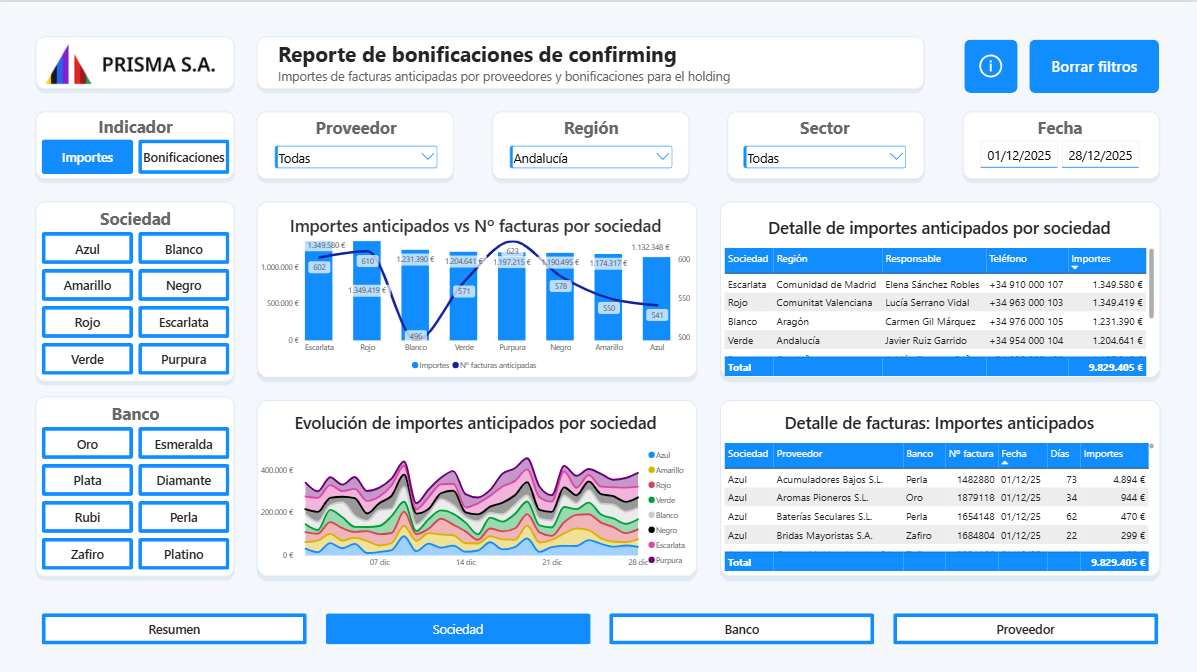

What the dashboard file says about the page in this screenshot:
{"tool":"powerbi","page":{"name":"Sociedad","canvas":[1920,1080],"ordinal":1},"visuals":[{"type":"tableEx","fields":{"Values":["Sociedad.Nombre_Corto_Sociedad","CCAA_Sociedad.Comunidad Autónoma","Sociedad.Nombre_Contacto_Sociedad","Sociedad.Telefono_Contacto","Registro_Bonificaciones.Sel_Importes"]},"box":[1154,327,704,270],"z":0},{"type":"stackedAreaChart","fields":{"Category":["registro_bonificaciones.F. Anticipo"],"Series":["Sociedad.Nombre_Corto_Sociedad"],"Y":["Registro_Bonificaciones.Sel_Importes"]},"box":[412,640,704,270],"z":1000},{"type":"tableEx","fields":{"Values":["Sociedad.Nombre_Corto_Sociedad","proveedores.Nombre_Proveedor","Banco.Nombre_Corto_Banco","Count(registro_bonificaciones.Nº Factura)","registro_bonificaciones.F. Anticipo","Sum(registro_bonificaciones.Días)","Registro_Bonificaciones.Sel_Importes"]},"box":[1154,640,704,270],"z":2000},{"type":"lineStackedColumnComboChart","fields":{"Category":["Sociedad.Nombre_Corto_Sociedad"],"Y":["Registro_Bonificaciones.Sel_Importes"],"Y2":["CountNonNull(registro_bonificaciones.Nº Factura)"]},"box":[412,324,704,270],"z":3000},{"type":"image","box":[60.5,60,320,80],"z":4000},{"type":"advancedSlicerVisual","title":"Sociedad","fields":{"Values":["Sociedad.Nombre_Corto_Sociedad"]},"box":[70.5,328,300,270],"z":5000},{"type":"pageNavigator","box":[70,978,1786,50],"z":6000},{"type":"advancedSlicerVisual","title":"Banco","fields":{"Values":["Banco.Nombre_Corto_Banco"]},"box":[70.5,640,300,270],"z":7000},{"type":"shape","title":"Reporte de bonificaciones de confirming","box":[448,60,1030,80],"z":8000},{"type":"advancedSlicerVisual","title":"Indicador","fields":{"Values":["Selector.Selector"]},"box":[70.5,180,300,96],"z":9000},{"type":"slicer","title":"Proveedor","fields":{"Values":["proveedores.Nombre_Proveedor"]},"box":[438,182,270,100],"z":10000},{"type":"slicer","title":"Región","fields":{"Values":["CCAA_Proveedor.Comunidad Autónoma"]},"box":[814,182,270,100],"z":11000},{"type":"slicer","title":"Fecha","fields":{"Values":["registro_bonificaciones.F. Anticipo"]},"box":[1564,182,270,100],"z":12000},{"type":"slicer","title":"Sector","fields":{"Values":["Proveedor.Sector"]},"box":[1188,182,270,100],"z":13000},{"type":"shape","box":[1572.1,250.7,123.6,29.3],"z":14000},{"type":"shape","box":[1702.1,250.7,123.6,29.3],"z":15000},{"type":"actionButton","box":[1650,60,208,86],"z":15500},{"type":"actionButton","box":[1545.6,60,85.6,85.6],"z":15750}]}

Visuals, with their boxes in screenshot pixels (x1, y1, x2, y2), scaled from the page's 1920x1080 canvas onto the 1197x672 screenshot:
tableEx - Sociedad.Nombre_Corto_Sociedad x CCAA_Sociedad.Comunidad Autónoma: {"x1": 719, "y1": 203, "x2": 1158, "y2": 371}
stackedAreaChart - registro_bonificaciones.F. Anticipo x Sociedad.Nombre_Corto_Sociedad: {"x1": 257, "y1": 398, "x2": 696, "y2": 566}
tableEx - Sociedad.Nombre_Corto_Sociedad x proveedores.Nombre_Proveedor: {"x1": 719, "y1": 398, "x2": 1158, "y2": 566}
lineStackedColumnComboChart - Sociedad.Nombre_Corto_Sociedad x Registro_Bonificaciones.Sel_Importes: {"x1": 257, "y1": 202, "x2": 696, "y2": 370}
image: {"x1": 38, "y1": 37, "x2": 237, "y2": 87}
"Sociedad" advancedSlicerVisual: {"x1": 44, "y1": 204, "x2": 231, "y2": 372}
pageNavigator: {"x1": 44, "y1": 609, "x2": 1157, "y2": 640}
"Banco" advancedSlicerVisual: {"x1": 44, "y1": 398, "x2": 231, "y2": 566}
"Reporte de bonificaciones de confirming" shape: {"x1": 279, "y1": 37, "x2": 921, "y2": 87}
"Indicador" advancedSlicerVisual: {"x1": 44, "y1": 112, "x2": 231, "y2": 172}
"Proveedor" slicer: {"x1": 273, "y1": 113, "x2": 441, "y2": 175}
"Región" slicer: {"x1": 507, "y1": 113, "x2": 676, "y2": 175}
"Fecha" slicer: {"x1": 975, "y1": 113, "x2": 1143, "y2": 175}
"Sector" slicer: {"x1": 741, "y1": 113, "x2": 909, "y2": 175}
shape: {"x1": 980, "y1": 156, "x2": 1057, "y2": 174}
shape: {"x1": 1061, "y1": 156, "x2": 1138, "y2": 174}
actionButton: {"x1": 1029, "y1": 37, "x2": 1158, "y2": 91}
actionButton: {"x1": 964, "y1": 37, "x2": 1017, "y2": 91}
